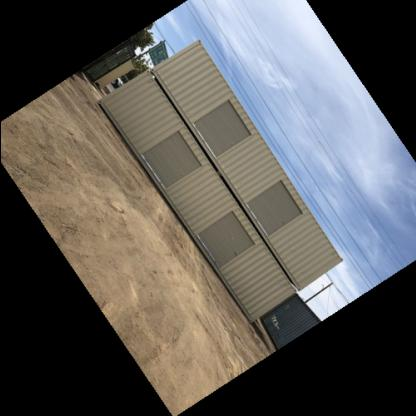Damage: (231, 245, 250, 261), (272, 219, 294, 232)
